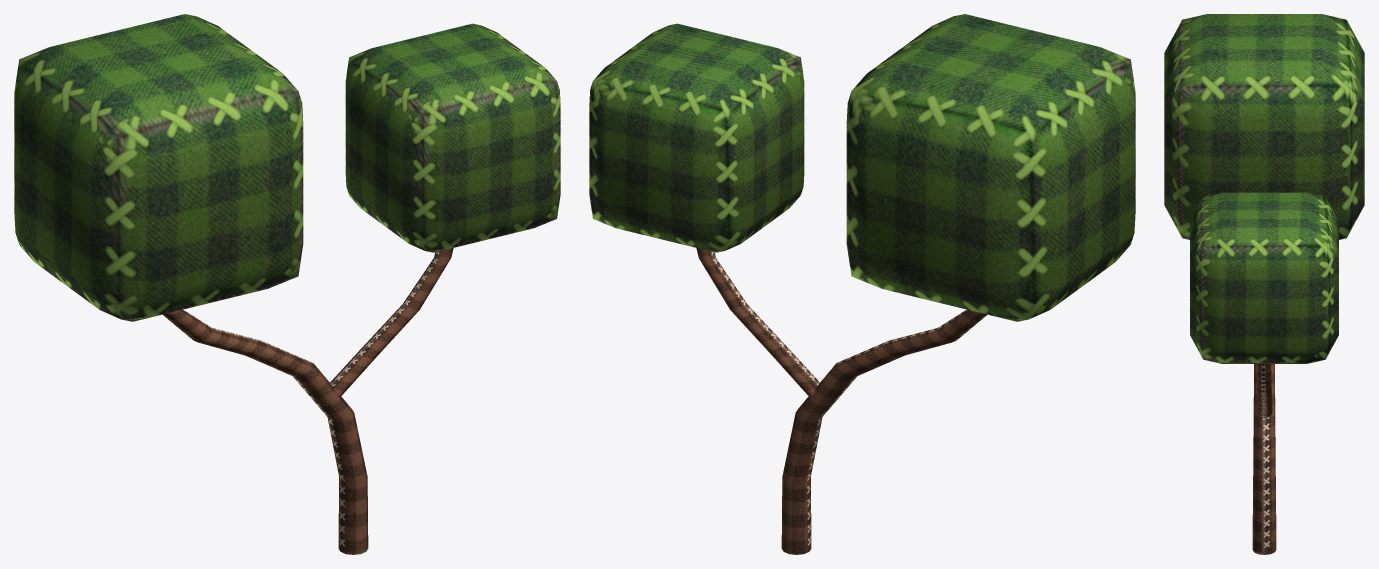
File: lpb_cs_tree13.fbx
3 renders of one model, left to right at view 1: azimuth 30°, elevation 25°; view 2: azimuth 150°, elevation 25°; view 3: azimuth 270°, elevation 25°, orthographic. The views are drawn at different scales.
Visible parts, largest first — view 1: lpb_cs_tree13; view 2: lpb_cs_tree13; view 3: lpb_cs_tree13.
Boxes of the visible parts, x1=… form: lpb_cs_tree13: x1=14, y1=14, x2=560, y2=554; lpb_cs_tree13: x1=589, y1=14, x2=1135, y2=554; lpb_cs_tree13: x1=1164, y1=14, x2=1364, y2=554.
Bounding box in the file's own units: 193 × 207 × 86.33.
